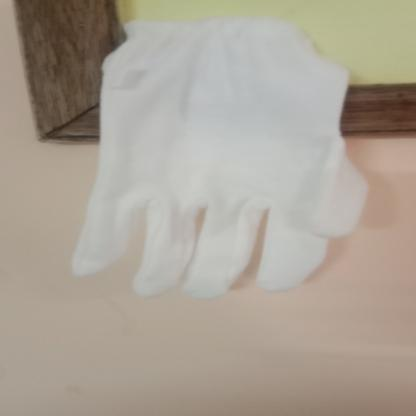gloved_hand: (62, 13, 377, 302)
